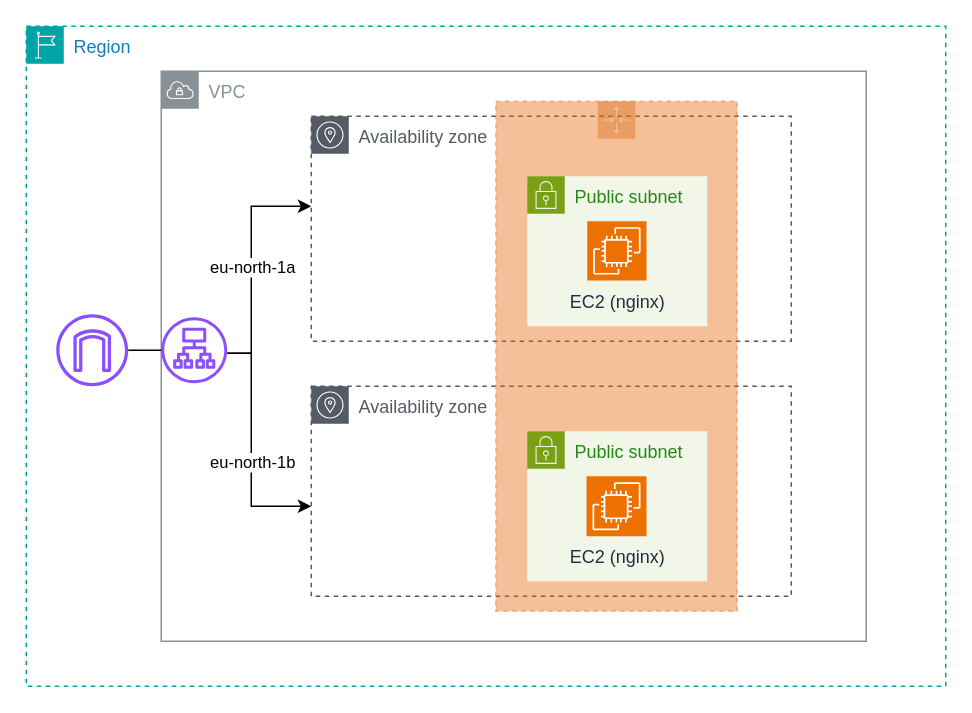
Image size: 972x713. Some labels were removed from this diagram. Here are the shapes that lost their labels. From the top down, the centre of each, then its label:
the point at 92,350: IGW
the point at 193,349: ALB
the point at 615,355: Auto Scaling group
